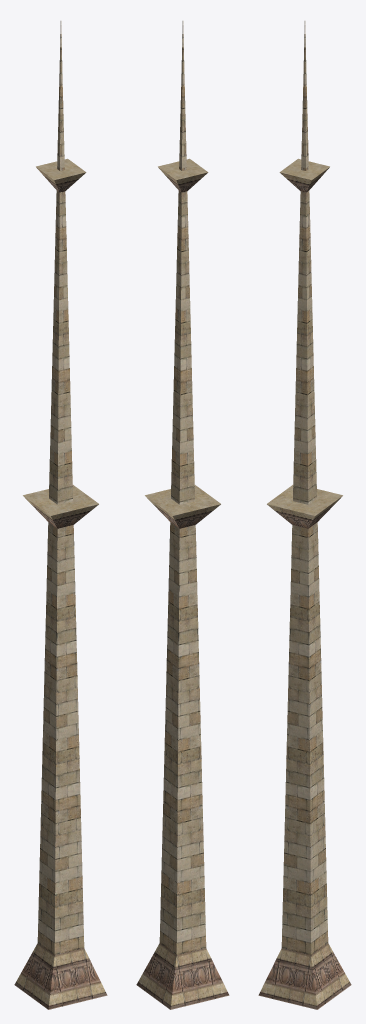
The model's file is thm_nboo_thed_imprv_obelisk_s01_l1.fbx.
The picture shows the model from 3 angles, left to right: view 1: azimuth 30°, elevation 25°; view 2: azimuth 210°, elevation 25°; view 3: azimuth 330°, elevation 25°; orthographic projection.
Parts seen in each view (by area): view 1: mesh_node; view 2: mesh_node; view 3: mesh_node.
Boxes of the visible parts, x1,y1,x2,y2 form: mesh_node: (14,21,107,1009); mesh_node: (136,21,229,1009); mesh_node: (258,21,351,1009).
Size of the model in its own units: 1.27 by 19.98 by 1.27.
